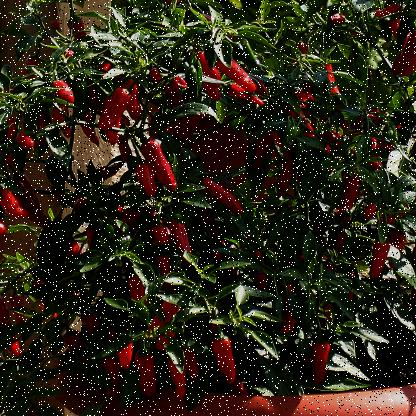chili: (206, 167, 249, 224), (136, 142, 180, 192), (206, 336, 248, 386), (101, 86, 134, 143), (330, 164, 370, 210), (362, 232, 394, 288), (305, 340, 336, 391), (163, 350, 193, 401), (133, 348, 161, 398), (274, 154, 304, 192), (102, 348, 119, 404), (172, 211, 188, 266), (125, 274, 147, 302)
